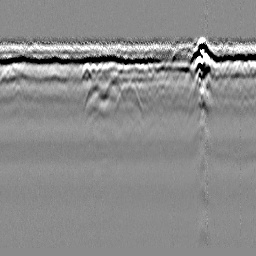cavity: (113, 80, 143, 117)
